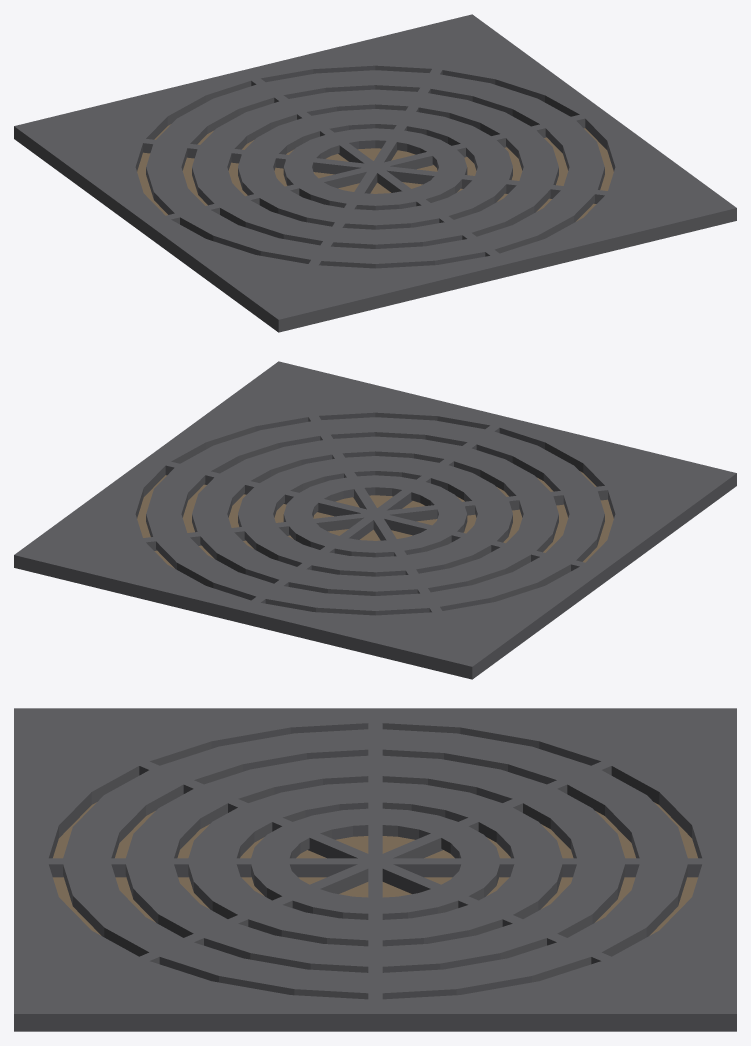
Rendered from tree_grate.glb.
The picture shows the model from 3 angles, top to bottom: view 1: azimuth 30°, elevation 25°; view 2: azimuth 150°, elevation 25°; view 3: azimuth 270°, elevation 25°; orthographic projection. The views are drawn at different scales.
Parts seen in each view (by area): view 1: tree_grate; view 2: tree_grate; view 3: tree_grate.
Part boxes in pixels (left/top/right/bottom): tree_grate: left=14, top=14, right=736, bottom=332; tree_grate: left=14, top=361, right=736, bottom=679; tree_grate: left=14, top=708, right=736, bottom=1031.
Bounding box in the file's own units: 1.5 × 0.04 × 1.5.
